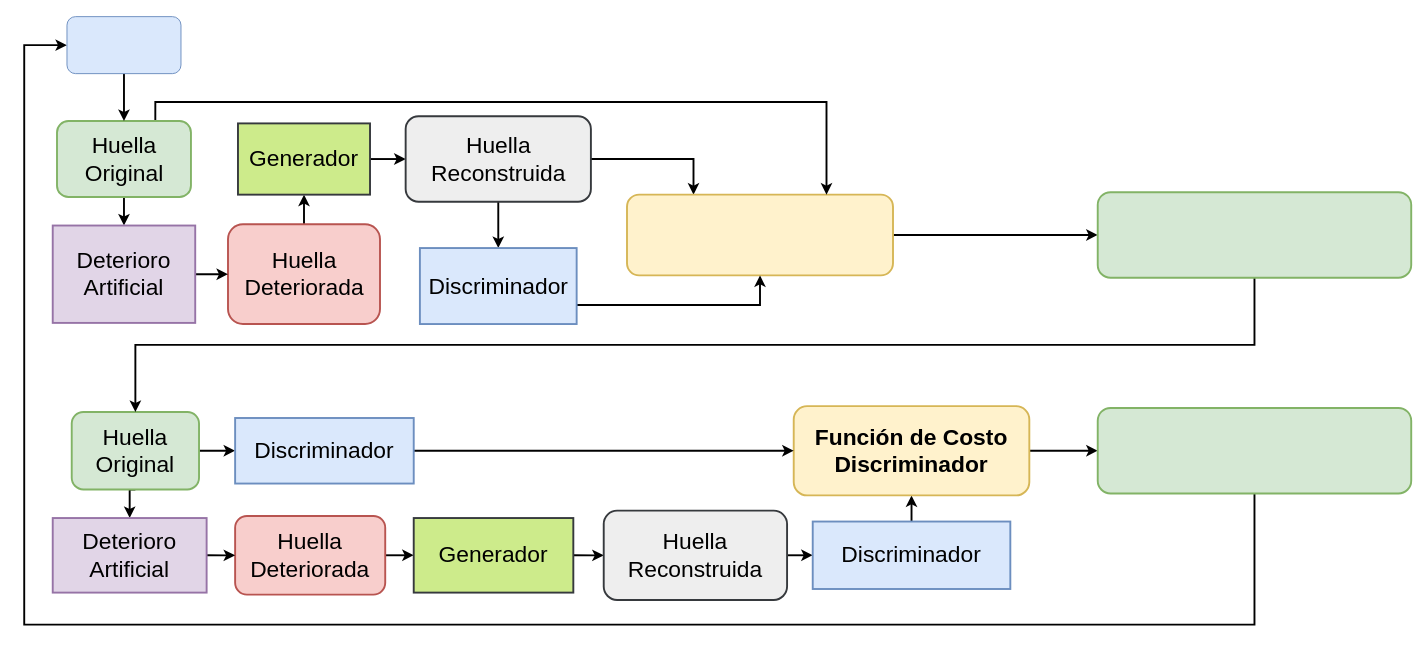
Image size: 1428x650. Some labels were removed from this diagram. The centre of each missing label's shape, as x and y in pixels:
"Actualización de filtros de discriminado" goes at point (1254, 450).
"Actualización de filtros de reconstrucción" goes at point (1254, 234).
"Función de Costo Generador" goes at point (759, 234).
"INICIO" goes at point (123, 45).
